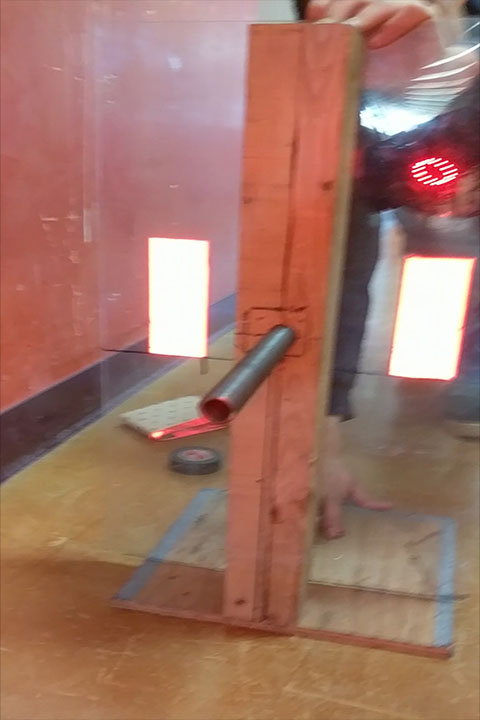gear: (385, 255, 476, 379), (147, 237, 208, 360)
